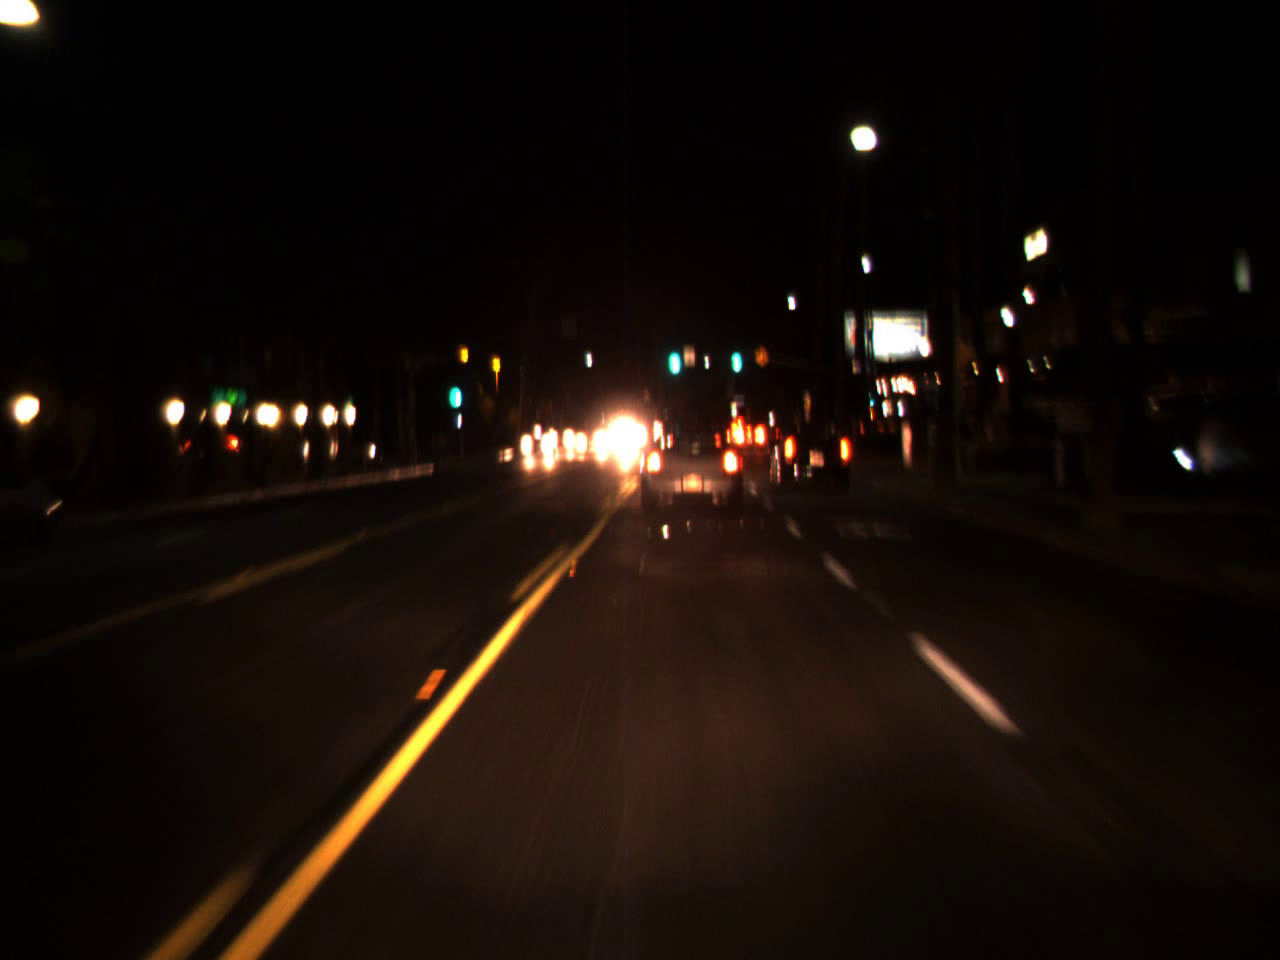go: (665, 327, 683, 381), (727, 327, 745, 378), (446, 358, 460, 418)
